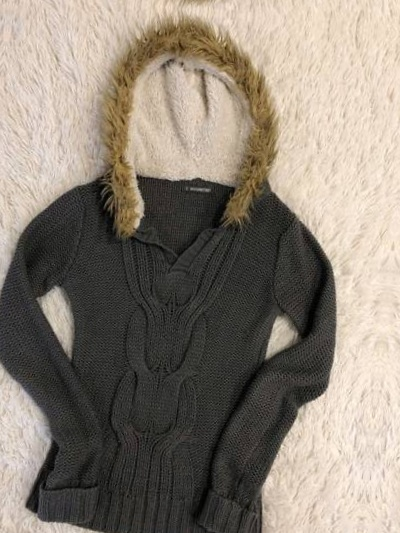Hoodie: (0, 20, 379, 533), (392, 69, 400, 533), (30, 0, 400, 3)
